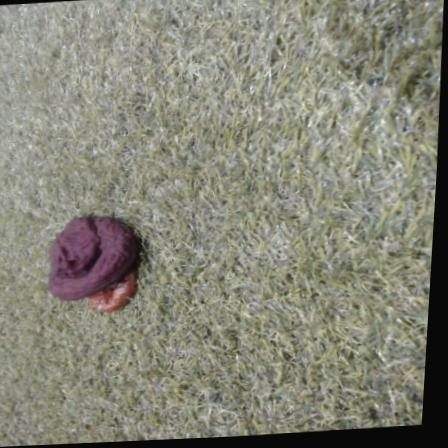dog-poop: (42, 210, 150, 317)
